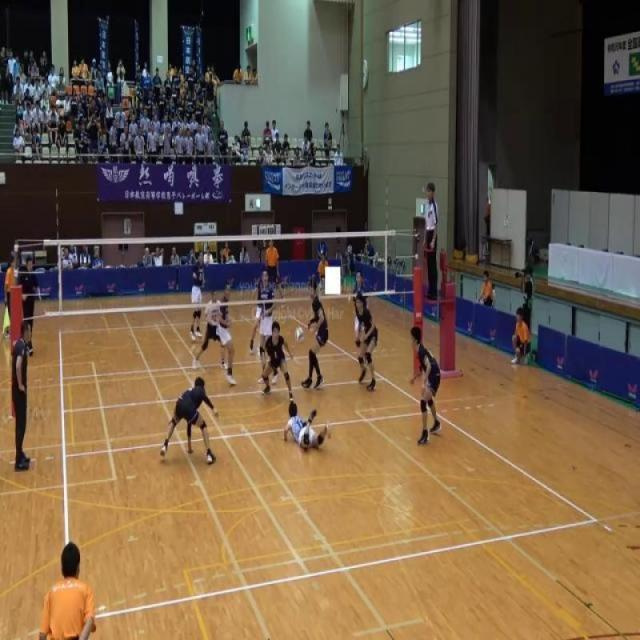volleyball: (294, 326, 306, 346)
